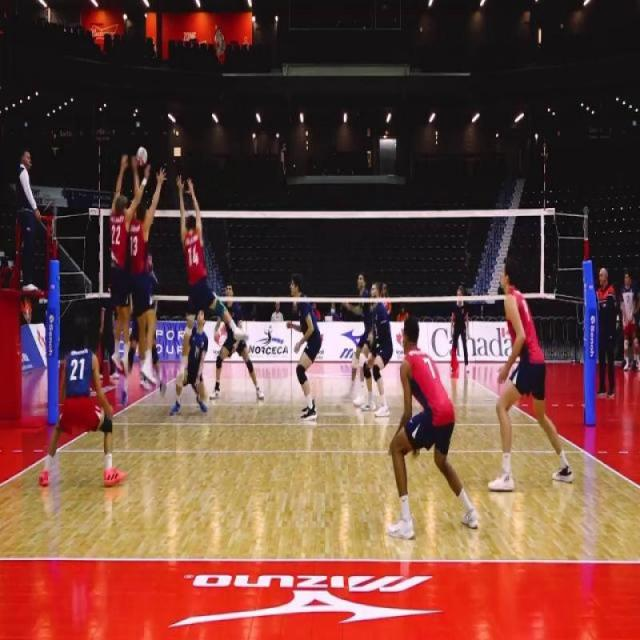volleyball: (136, 146, 148, 166)
